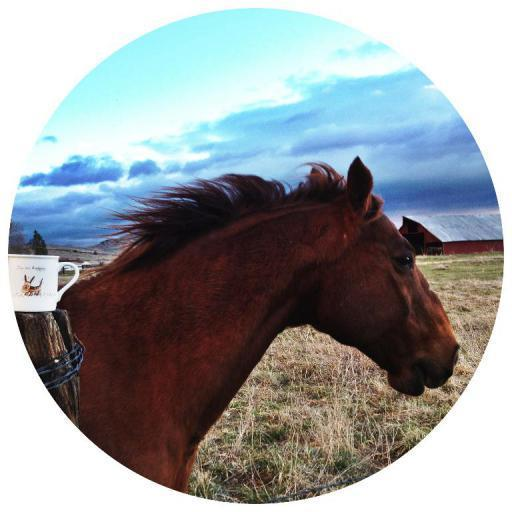horse: (61, 153, 463, 492)
